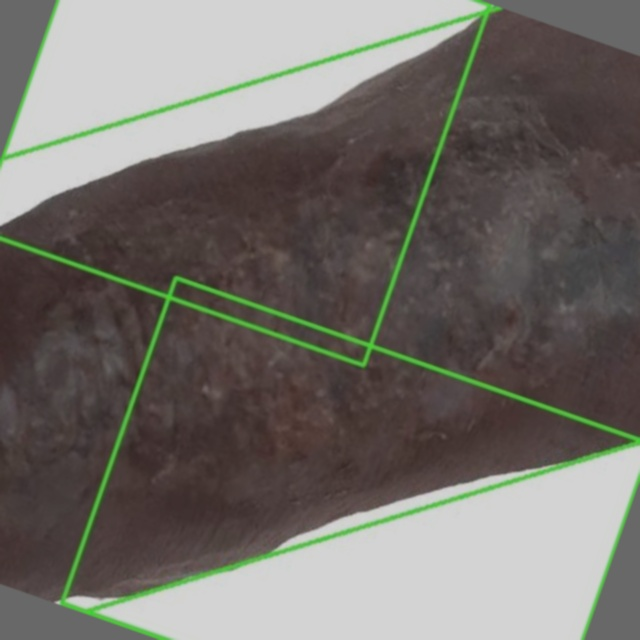Contact Dermatitis: (0, 66, 639, 547), (60, 278, 639, 639), (0, 0, 490, 365)
